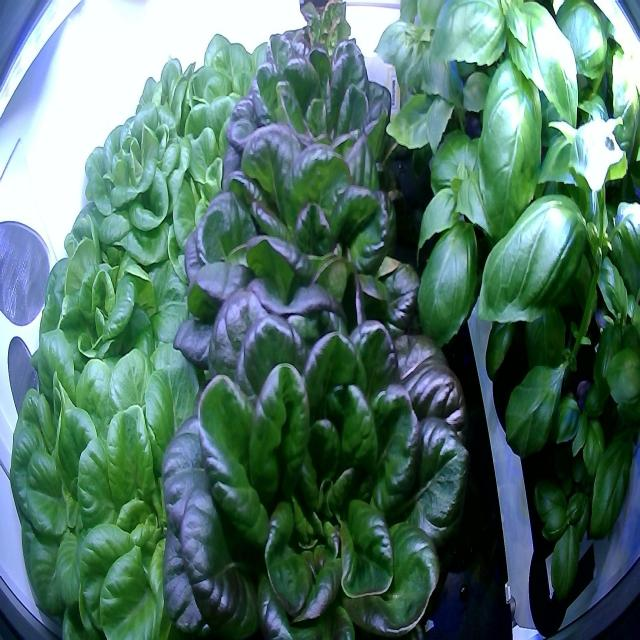Ready: (150, 265, 477, 640), (169, 112, 438, 426), (68, 329, 247, 638), (212, 20, 408, 238), (6, 323, 128, 634), (30, 190, 172, 442), (161, 89, 274, 284), (67, 113, 187, 274), (183, 22, 289, 186), (115, 48, 212, 174)
